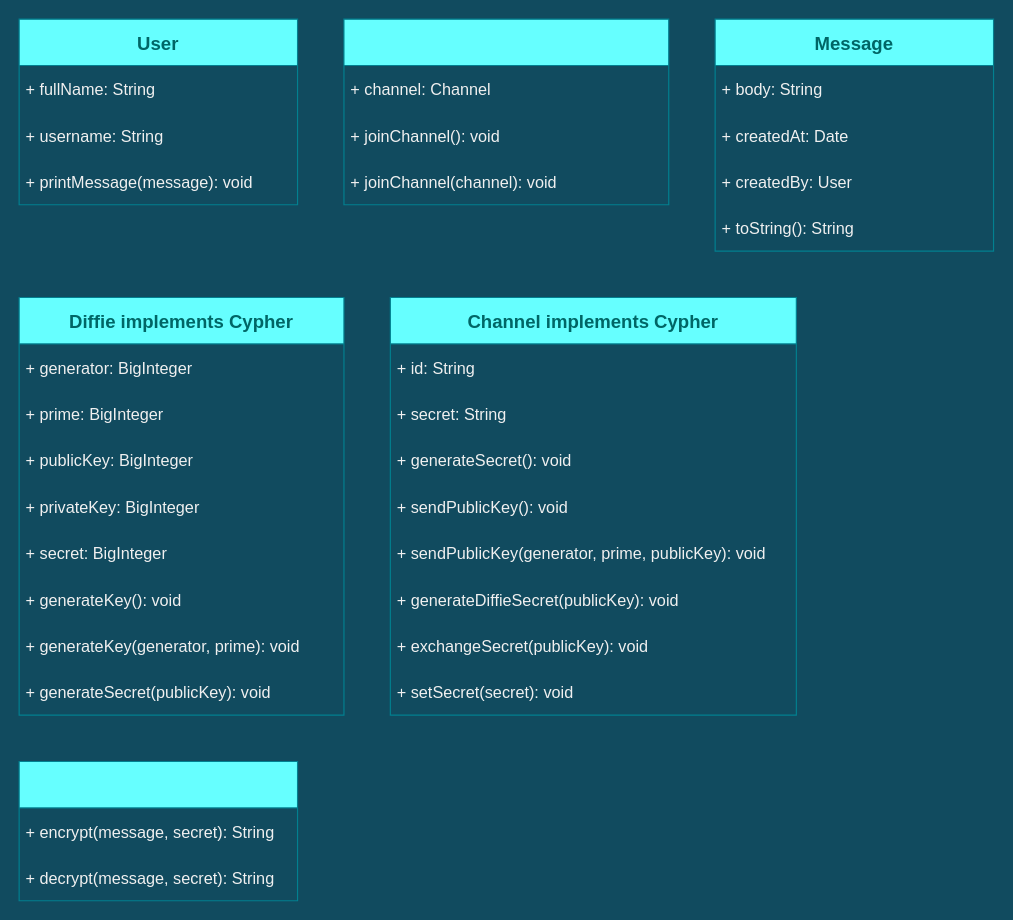
This 1013x920 diagram has some shape labels left out. Each missing label, with the box of its shape:
Client extends User: (343, 18, 669, 205)
Cypher: (18, 760, 298, 901)
